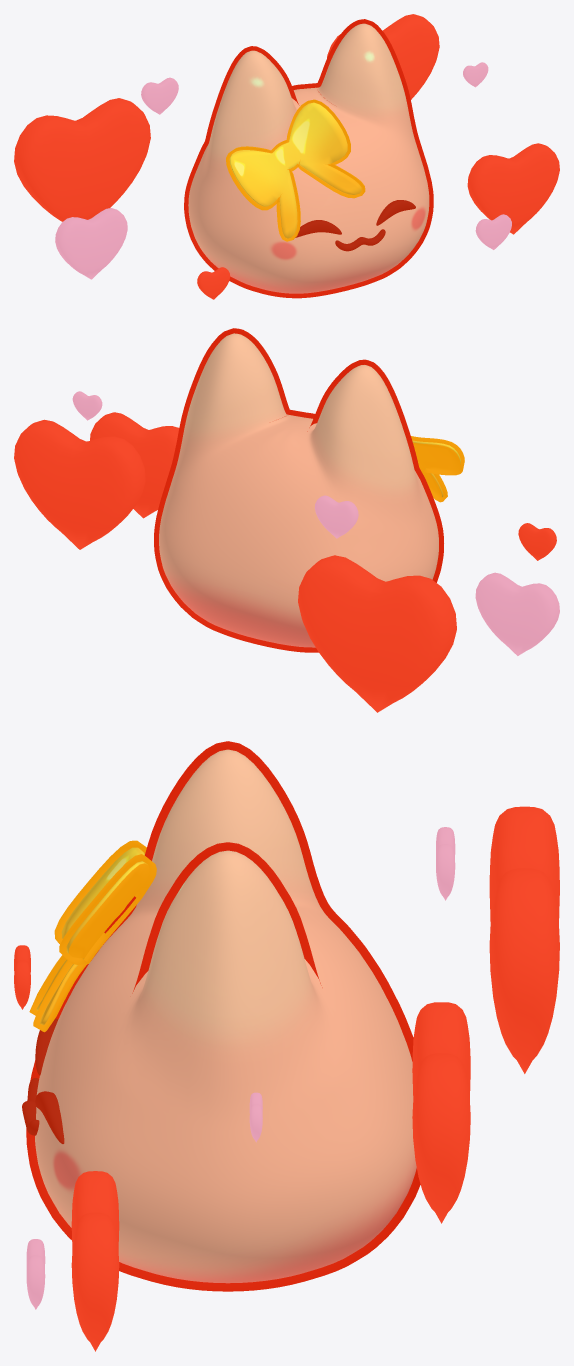
File: что-то.glb
3 views of the same model, one above another, from view 1: azimuth 30°, elevation 25°; view 2: azimuth 150°, elevation 25°; view 3: azimuth 270°, elevation 25° (orthographic). The views are drawn at different scales.
Parts seen in each view (by area): view 1: Sphere, Cube.002, Plane.004, Cube.003, outline, Cube.001, Cube.004, Cube, Sphere.001, Cube.005, Cube.006, Cube.008 (+1 smaller); view 2: Sphere, Cube.002, Cube.004, outline, Cube.001, Cube.003, Plane.004, Cube, Cube.006, Cube.008; view 3: Sphere, Cube.002, outline, Cube.004, Plane.004, Cube.003, Sphere.001, Cube, Cube.005, Cube.006.
Part boxes in pixels (bbox=[...]): Sphere: bbox=[188, 23, 429, 293]; Cube.002: bbox=[14, 98, 150, 221]; Plane.004: bbox=[226, 99, 365, 241]; Cube.003: bbox=[467, 143, 559, 234]; outline: bbox=[184, 19, 433, 298]; Cube.001: bbox=[55, 208, 127, 279]; Cube.004: bbox=[327, 14, 439, 99]; Cube: bbox=[141, 77, 178, 114]; Sphere.001: bbox=[295, 200, 415, 237]; Cube.005: bbox=[475, 214, 511, 249]; Cube.006: bbox=[197, 267, 230, 299]; Cube.008: bbox=[463, 62, 488, 87]; Sphere: bbox=[159, 333, 438, 647]; Cube.002: bbox=[298, 555, 456, 712]; Cube.004: bbox=[14, 419, 145, 549]; outline: bbox=[154, 328, 443, 652]; Cube.001: bbox=[475, 572, 559, 655]; Cube.003: bbox=[90, 412, 179, 518]; Plane.004: bbox=[411, 436, 464, 502]; Cube: bbox=[314, 495, 358, 538]; Cube.006: bbox=[518, 523, 556, 560]; Cube.008: bbox=[72, 391, 102, 420]; Sphere: bbox=[35, 749, 416, 1283]; Cube.002: bbox=[489, 806, 559, 1073]; outline: bbox=[26, 741, 420, 1291]; Cube.004: bbox=[412, 1002, 470, 1223]; Plane.004: bbox=[29, 840, 156, 1032]; Cube.003: bbox=[71, 1171, 119, 1351]; Sphere.001: bbox=[35, 1018, 64, 1143]; Cube: bbox=[436, 827, 455, 900]; Cube.005: bbox=[26, 1239, 45, 1309]; Cube.006: bbox=[14, 945, 30, 1009].
Bounding box in the file's own units: 4.59 × 2.38 × 2.58.
7 materials, 2 textured.
